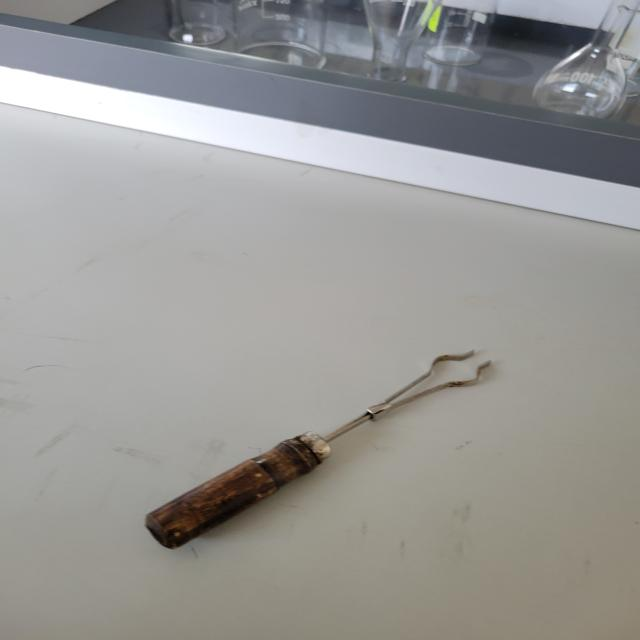TestTube_Holder: (119, 324, 538, 570)
